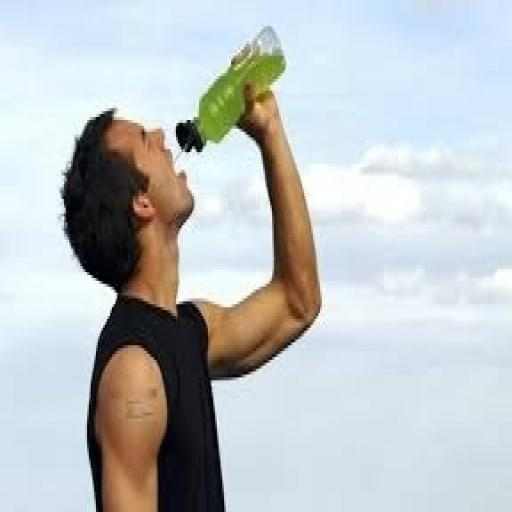drinking: (174, 23, 286, 155)
